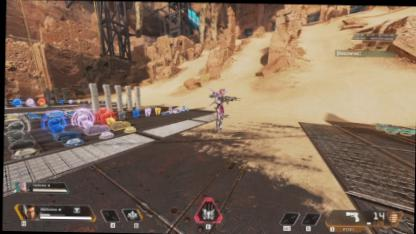Target: (212, 86, 228, 127)
